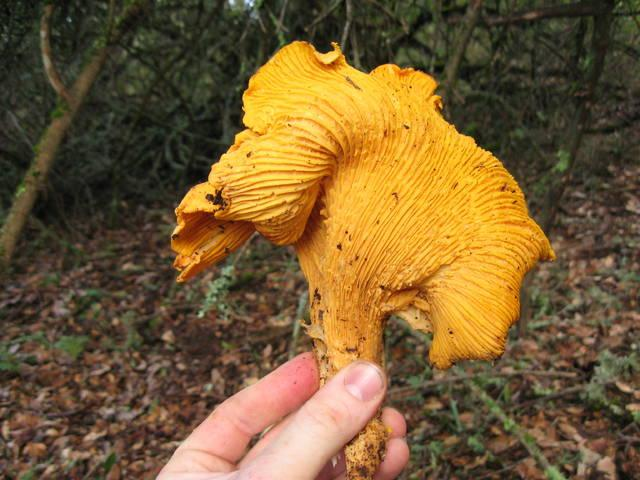edible_mushroom: (168, 38, 556, 479)
